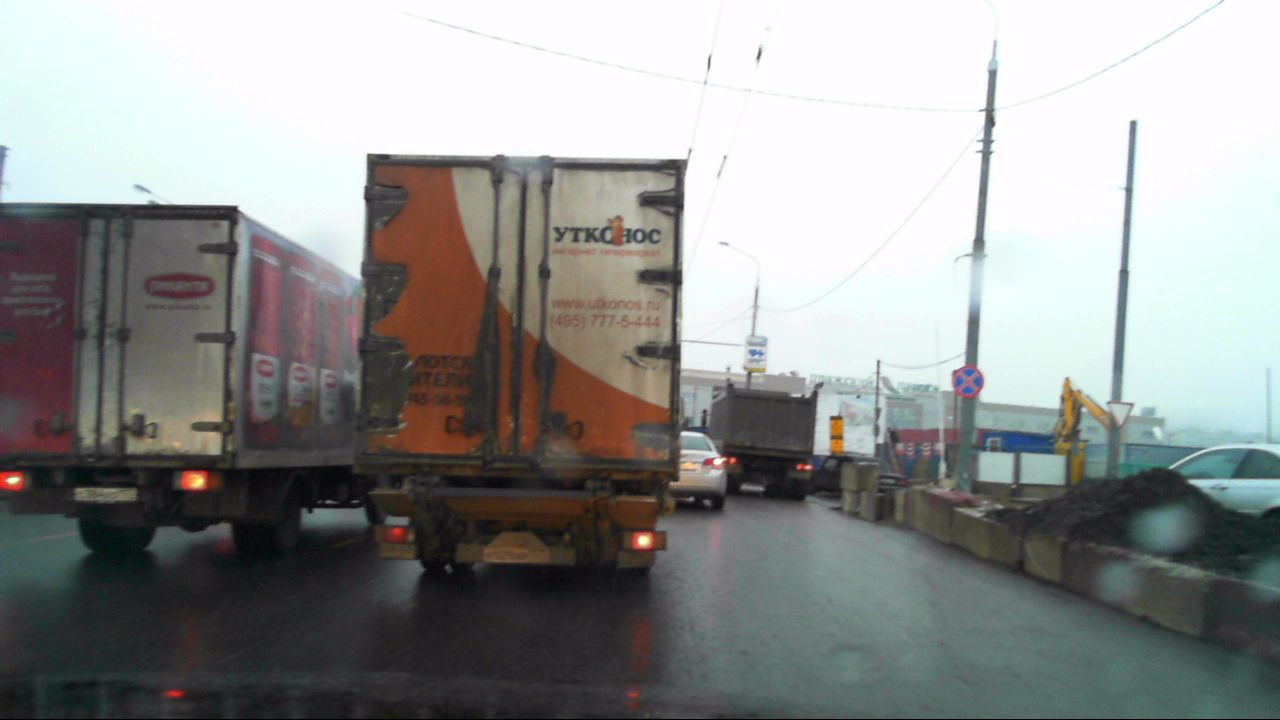No Parking: (950, 364, 983, 396)
